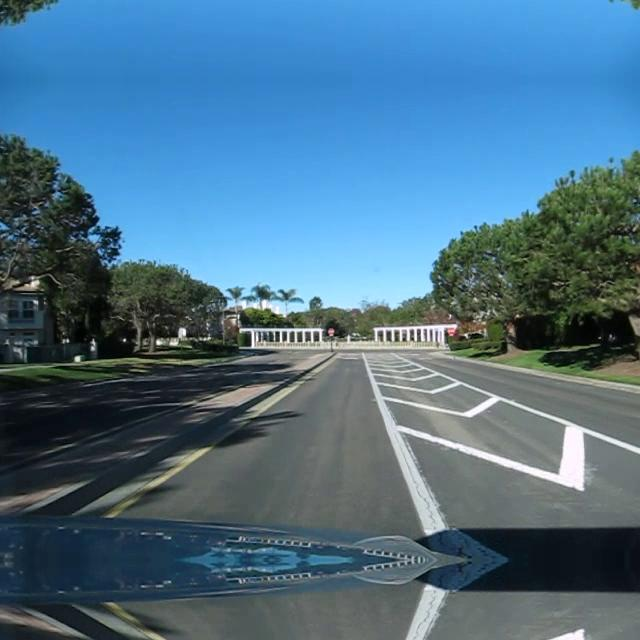stop: (446, 326, 454, 334), (326, 326, 334, 334)
